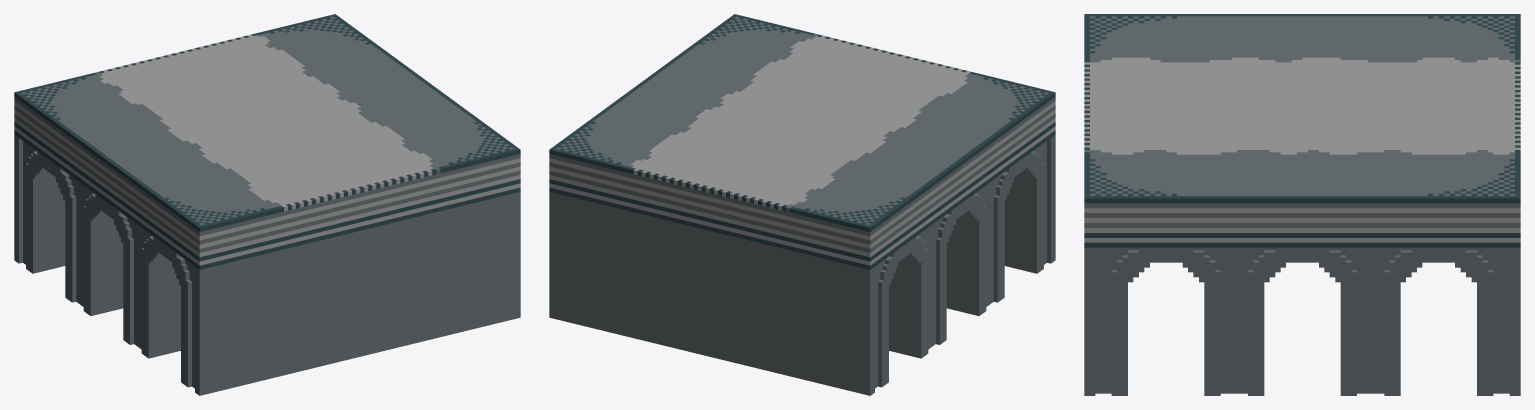
Rendered from bridge_stone.obj.
The picture shows the model from 3 angles, left to right: view 1: azimuth 30°, elevation 25°; view 2: azimuth 150°, elevation 25°; view 3: azimuth 270°, elevation 25°; orthographic projection. The views are drawn at different scales.
Size of the model in its own units: 8 by 4 by 8.
Materials: 1 (1 with a texture image).
